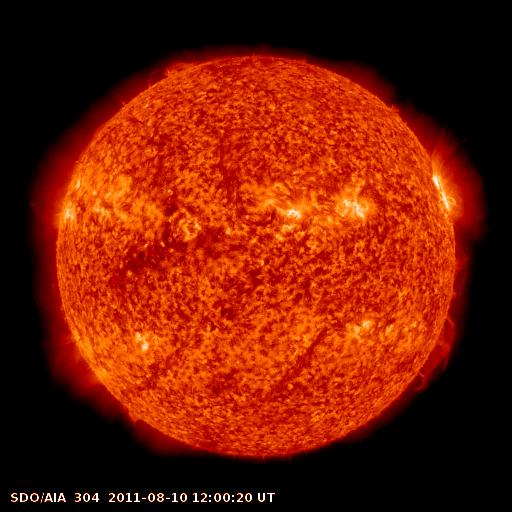prominence: (398, 314, 473, 395), (139, 48, 212, 91), (443, 247, 479, 306), (109, 400, 155, 436)
